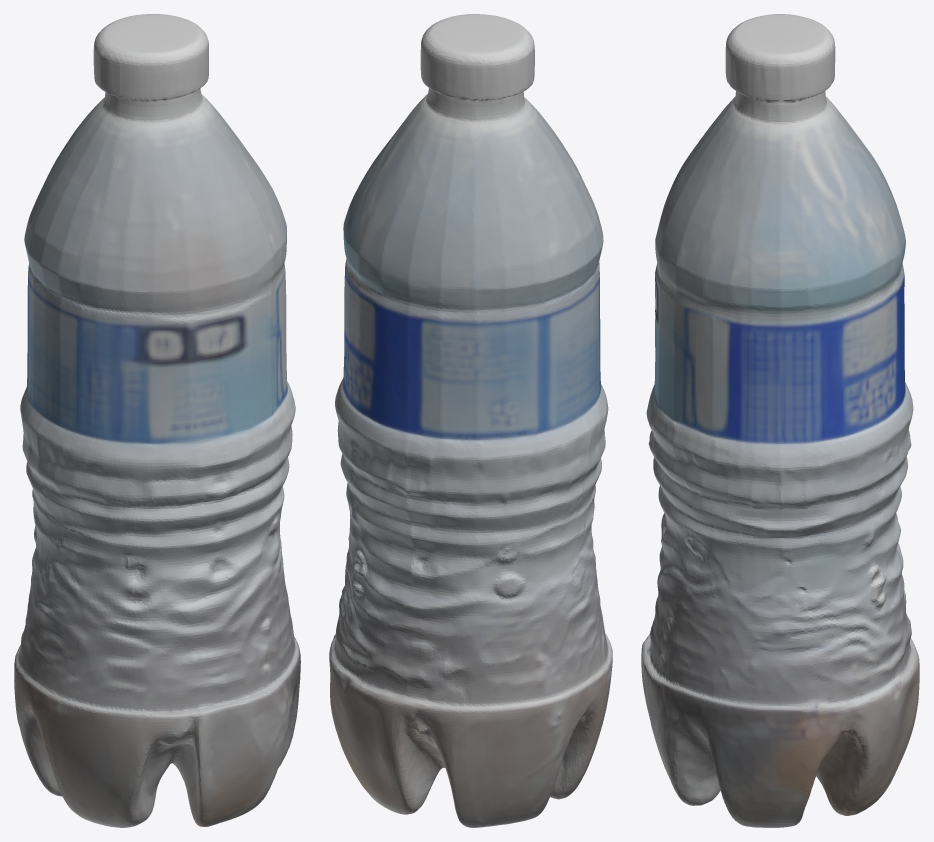
Rendered from water-bottle.glb.
3 views of the same model, side by side, from view 1: azimuth 30°, elevation 25°; view 2: azimuth 150°, elevation 25°; view 3: azimuth 270°, elevation 25° (orthographic).
Visible parts, largest first — view 1: geometry_0; view 2: geometry_0; view 3: geometry_0.
Boxes of the visible parts, left/top/right/bottom form: geometry_0: left=14, top=14, right=300, bottom=827; geometry_0: left=329, top=14, right=612, bottom=827; geometry_0: left=641, top=14, right=919, bottom=827.
Bounding box in the file's own units: 0.345 × 0.9996 × 0.3359.
